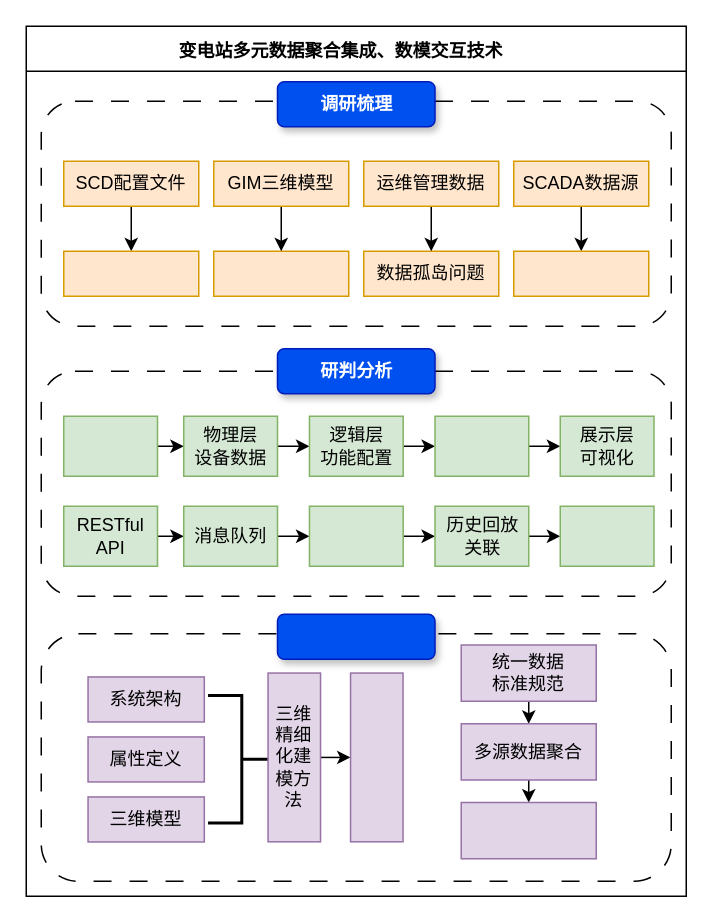
Image size: 714x923. Some labels were removed from this diagram. The centre of each missing label's shape, as x and y in pixels:
"三维可视化 展示平台" belongs at point 528,830.
"三维通用模型库" belongs at point 376,757.
"实时映射" belongs at point 355,535.
"实时监控" belongs at point 580,273.
"应用层 业务流程" belongs at point 481,445.
"故障诊断场景" belongs at point 130,273.
"智能巡检" belongs at point 280,273.
"模型反馈 校验" belongs at point 606,535.
"电网标识 编码体系" belongs at point 110,445.
"研究成果" belongs at point 357,638.
